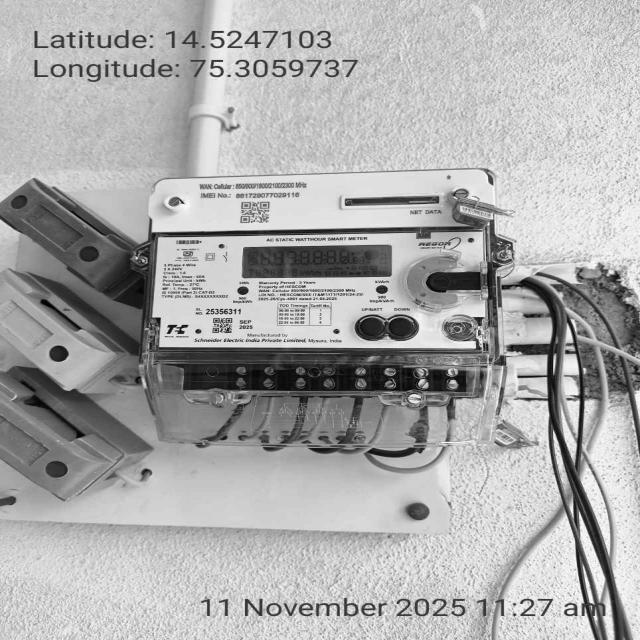meter: (150, 165, 501, 350)
